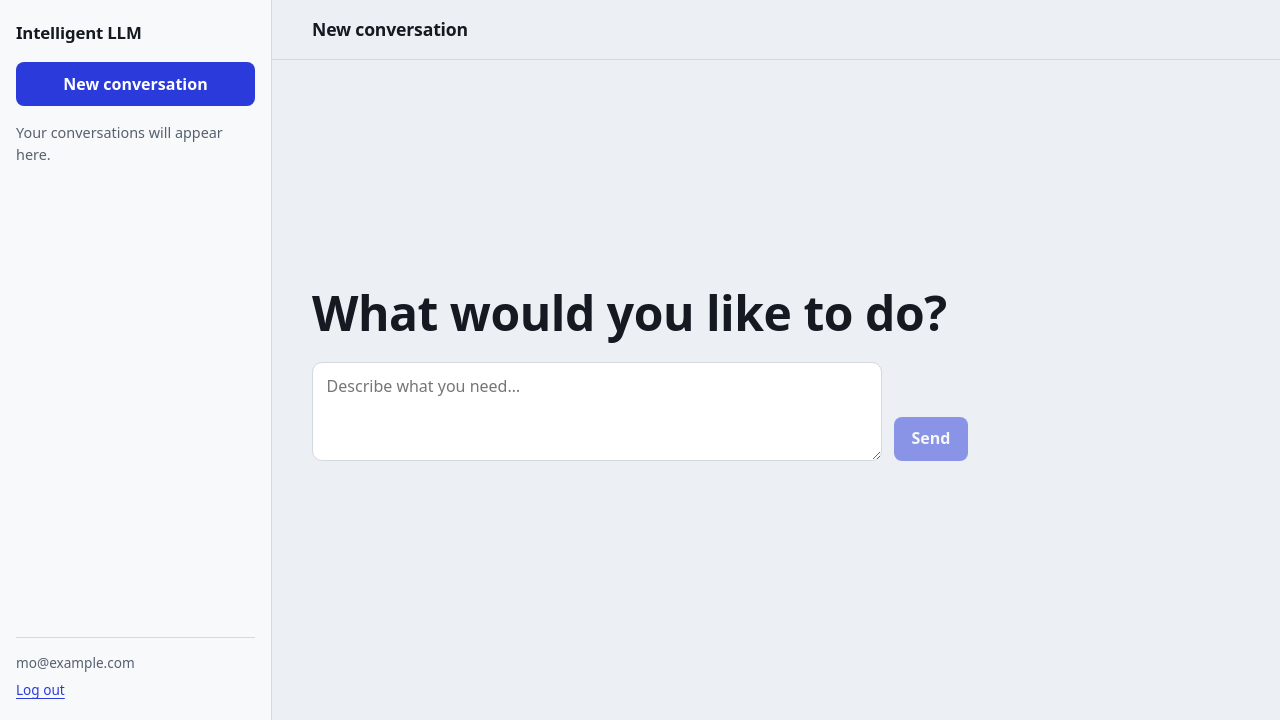
Test: chat › logs out
Click the button "Log out" at coordinates (40, 689), box [16,679,65,700]
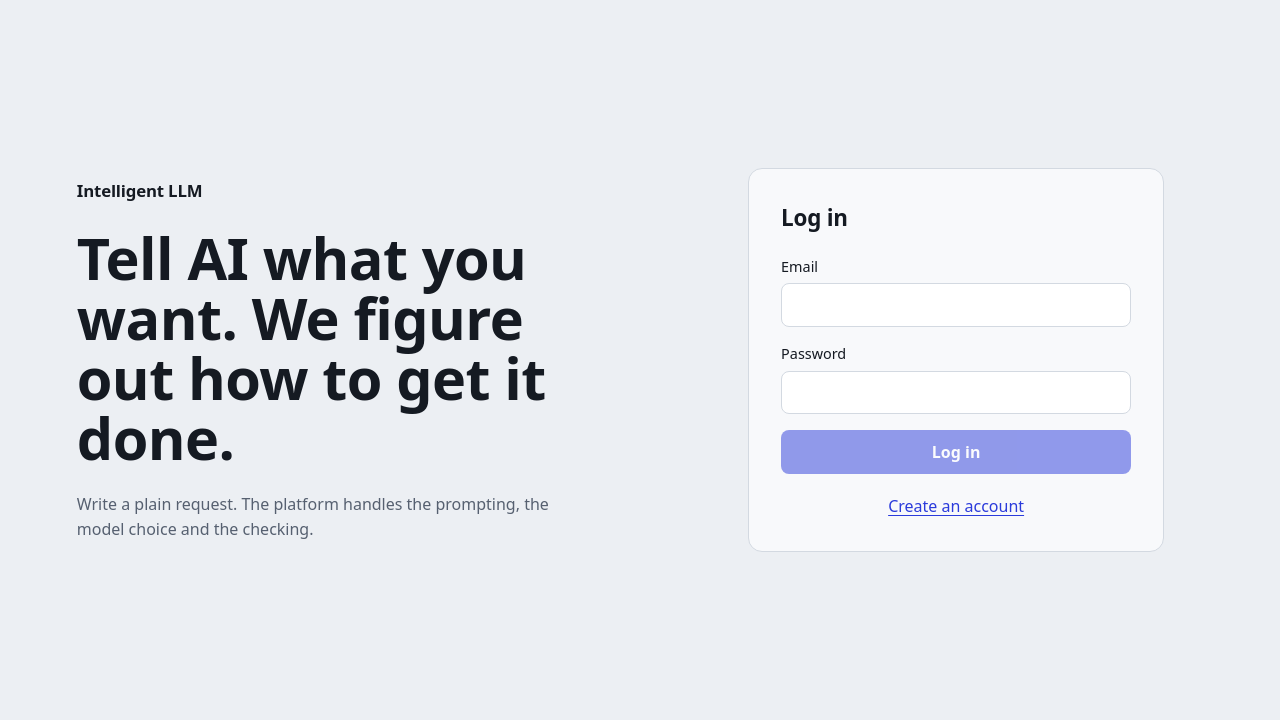
Expected: the heading "Log in" is shown, [781,202,848,233]
